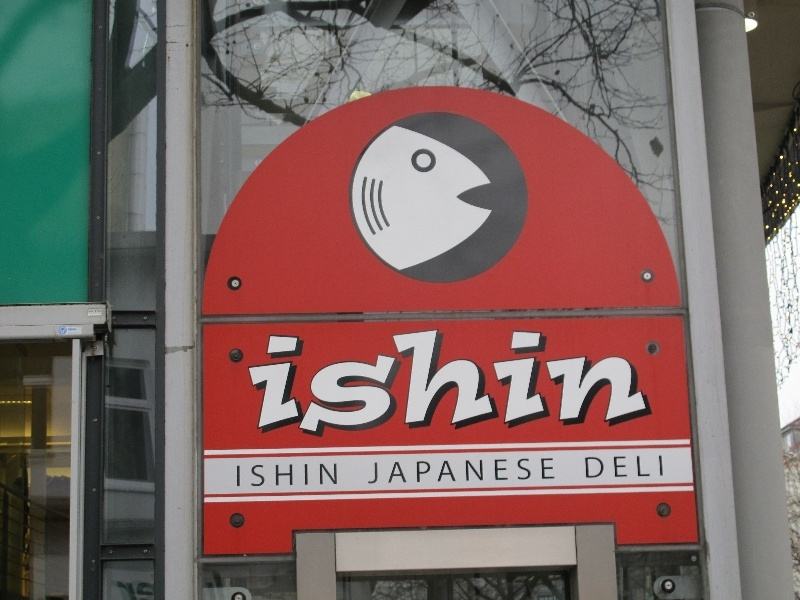text: (257, 321, 272, 440), (273, 321, 288, 440), (289, 321, 304, 440), (305, 321, 320, 440), (321, 321, 336, 440), (337, 321, 352, 440), (353, 321, 368, 440), (369, 321, 384, 440), (385, 321, 400, 440), (401, 321, 416, 440), (417, 321, 432, 440), (433, 321, 448, 440), (449, 321, 464, 440), (465, 321, 480, 440), (481, 321, 496, 440), (497, 321, 512, 440), (513, 321, 528, 440), (529, 321, 544, 440), (545, 321, 560, 440), (561, 321, 576, 440), (577, 321, 592, 440), (593, 321, 608, 440), (609, 321, 624, 440), (625, 321, 640, 440), (641, 321, 652, 440), (247, 321, 256, 440), (369, 455, 384, 488), (385, 455, 400, 488), (401, 455, 416, 488), (417, 455, 432, 488), (433, 455, 448, 488), (449, 455, 464, 488), (465, 455, 480, 488), (481, 455, 496, 488), (497, 455, 512, 488), (513, 455, 528, 488), (529, 455, 544, 488), (241, 461, 256, 492), (257, 461, 272, 492), (273, 461, 288, 492), (289, 461, 304, 492), (305, 461, 320, 492), (321, 461, 336, 492), (593, 452, 608, 481), (609, 452, 624, 481), (625, 452, 640, 481), (641, 452, 656, 481), (545, 455, 556, 488), (657, 452, 666, 481), (584, 452, 592, 481), (235, 461, 240, 492), (337, 461, 341, 492), (366, 455, 368, 488)
